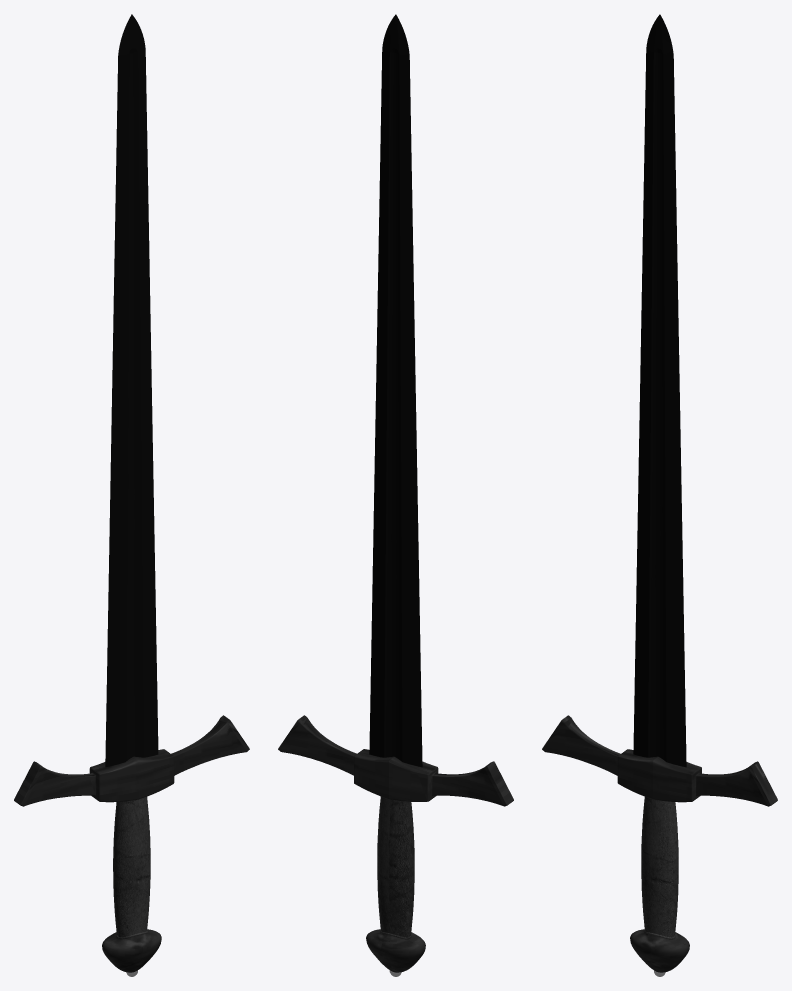
File: rusword.obj
3 renders of one model, left to right at view 1: azimuth 30°, elevation 25°; view 2: azimuth 150°, elevation 25°; view 3: azimuth 330°, elevation 25°, orthographic.
Parts seen in each view (by area): view 1: blade, garda, hand, end; view 2: blade, garda, hand, end; view 3: blade, garda, hand, end.
Boxes of the visible parts, x1,y1,x2,y2 form: blade: (105,14,158,767); garda: (14,715,249,806); hand: (113,796,150,939); end: (102,929,161,972); blade: (369,14,422,767); garda: (278,715,513,806); hand: (377,796,414,939); end: (366,929,425,972); blade: (633,14,686,767); garda: (542,715,777,806); hand: (641,797,678,939); end: (630,929,689,972).
Size of the model in its own units: 250 by 1002 by 38.8.
Materials: 5 (5 with a texture image).
